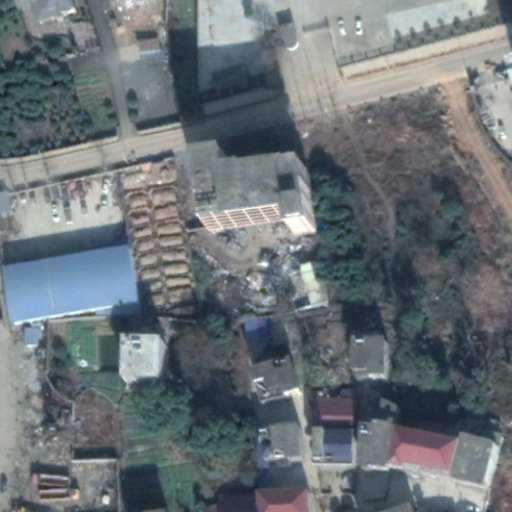msw: (203, 240, 306, 316)
